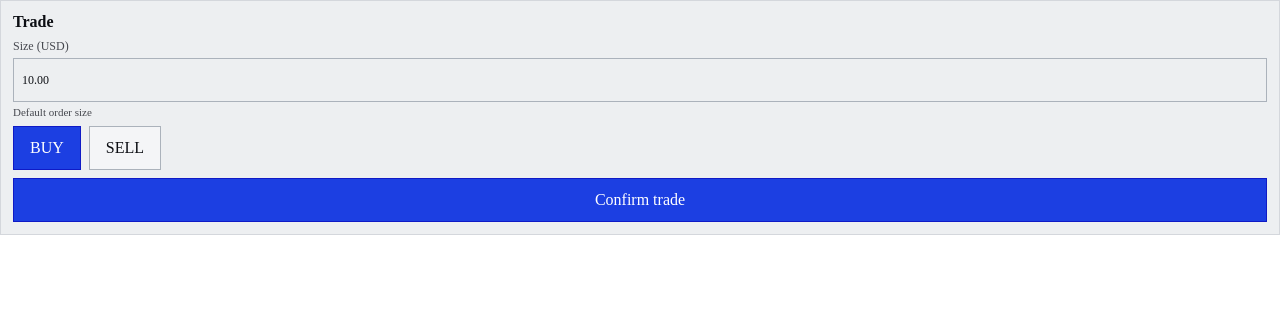
Test: the web ticket sends what the API's amount-priced route accepts › refuses in words when there is no market, and posts nothing
Replace the text in the field labelled "Size (USD) Default order size" with "10": x=640, y=80 x1=13 y1=58 x2=1267 y2=102
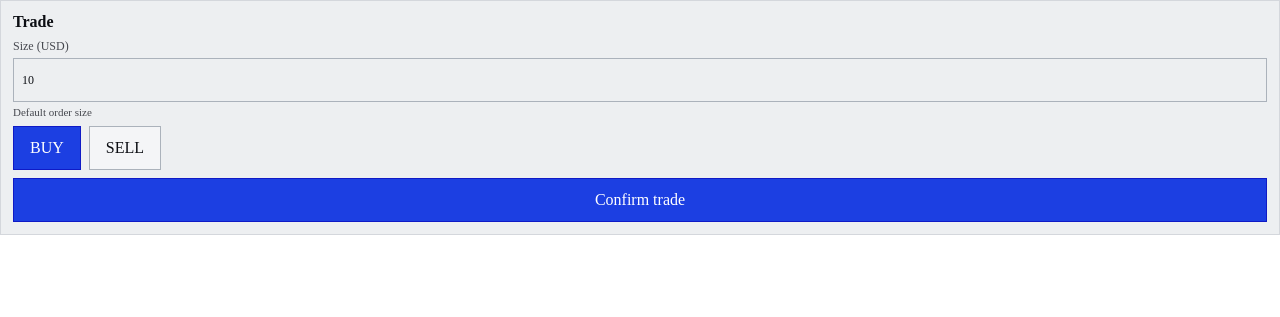
Click the button "Confirm trade": x=640, y=200 x1=13 y1=178 x2=1267 y2=222
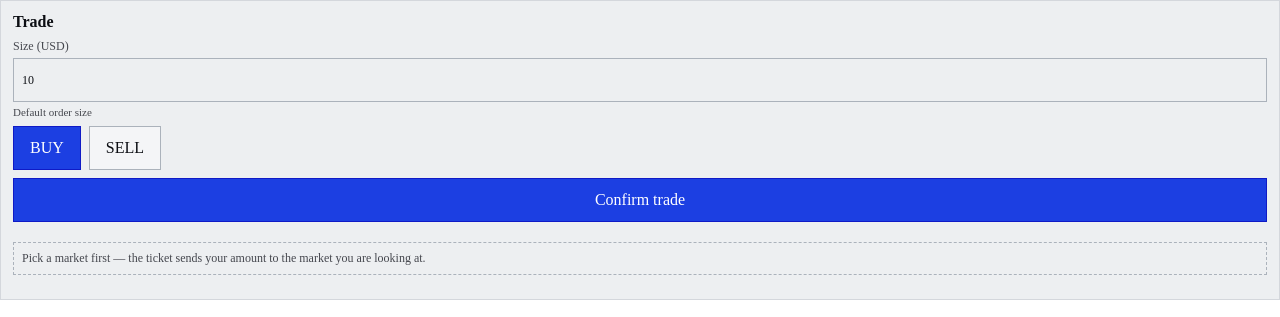
Now the message shows "Pick a market", box x1=22 y1=251 x2=426 y2=265
